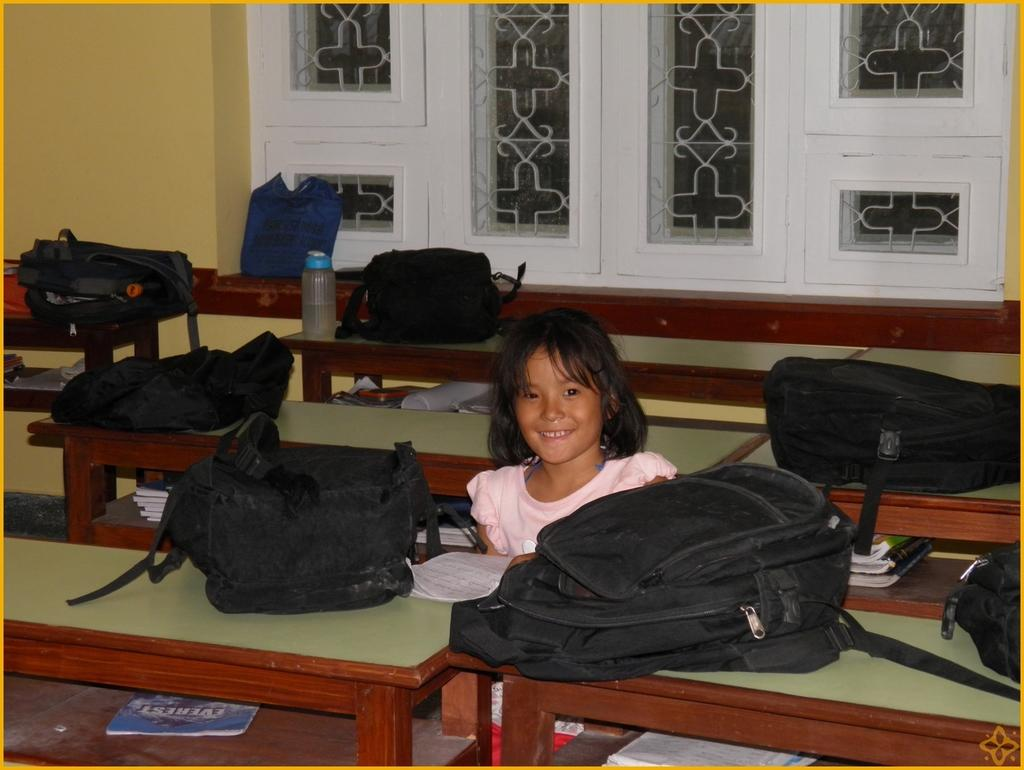Luggage-and-bags: (438, 459, 1023, 697), (121, 441, 430, 627), (751, 349, 1020, 562), (55, 328, 296, 447), (25, 230, 204, 345), (335, 248, 528, 349), (243, 173, 345, 280)
